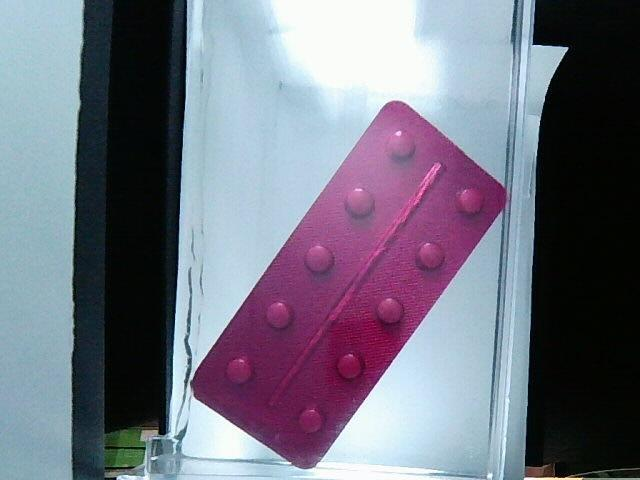Light Front: (185, 101, 507, 471)
Pill Front: (344, 186, 376, 220), (304, 243, 336, 276), (456, 185, 488, 217), (386, 128, 416, 162), (415, 241, 446, 273), (375, 296, 406, 327), (263, 300, 291, 330), (224, 357, 252, 386), (336, 352, 363, 380), (298, 408, 324, 436)
